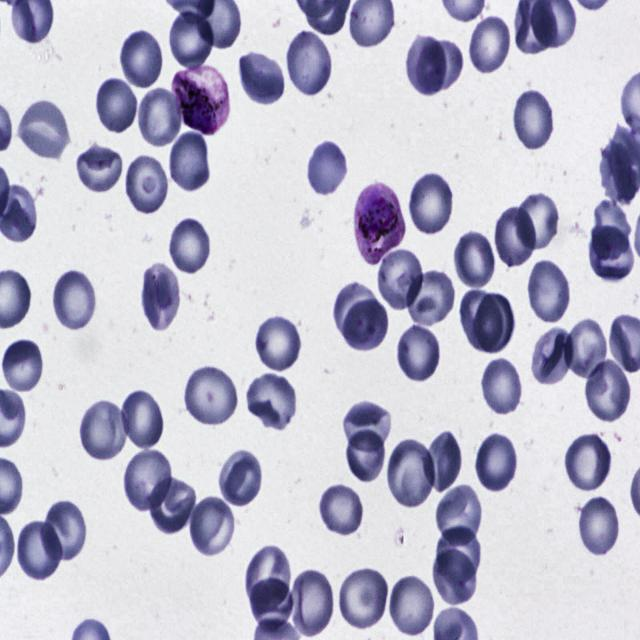difficult: (354, 179, 406, 264)
red blood cell: (337, 564, 392, 634), (385, 437, 436, 509), (182, 364, 241, 426), (120, 446, 174, 512), (16, 97, 71, 161), (76, 397, 130, 462), (286, 566, 333, 636), (584, 355, 632, 423), (407, 170, 456, 236), (288, 28, 331, 103), (387, 573, 436, 638), (15, 518, 64, 582), (375, 248, 424, 312), (252, 310, 303, 371), (186, 495, 236, 557), (563, 431, 613, 493), (136, 86, 184, 150), (586, 223, 636, 284), (51, 266, 97, 332), (526, 258, 572, 324), (492, 204, 538, 270), (432, 524, 480, 587), (245, 373, 298, 430), (563, 315, 609, 380), (140, 261, 182, 332), (118, 27, 165, 90), (459, 288, 503, 355), (43, 497, 89, 561), (167, 9, 215, 70), (514, 189, 560, 252), (436, 482, 482, 545), (120, 387, 165, 451), (422, 428, 463, 498), (394, 324, 442, 383), (247, 547, 293, 608), (150, 475, 197, 534), (474, 431, 518, 494), (512, 88, 556, 151), (169, 131, 213, 194), (473, 291, 516, 355), (414, 38, 464, 93), (128, 152, 170, 217), (528, 327, 574, 386), (467, 15, 512, 75), (334, 284, 379, 344), (404, 269, 453, 324), (577, 496, 621, 557), (480, 358, 526, 416), (218, 450, 264, 508), (433, 549, 479, 607), (598, 139, 636, 209), (590, 198, 631, 262), (238, 49, 284, 106), (343, 397, 394, 448), (95, 75, 139, 134), (248, 574, 296, 628), (342, 299, 389, 354), (405, 35, 446, 98), (168, 217, 212, 275), (319, 483, 366, 537), (453, 229, 496, 288), (76, 141, 125, 192), (344, 425, 387, 483), (3, 337, 45, 394), (307, 140, 349, 197)
trophozoite: (172, 65, 229, 136)
